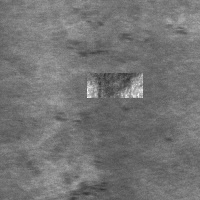patches: (87, 73, 143, 98)
rolled-in_scale: (45, 107, 107, 200), (66, 14, 183, 61)
